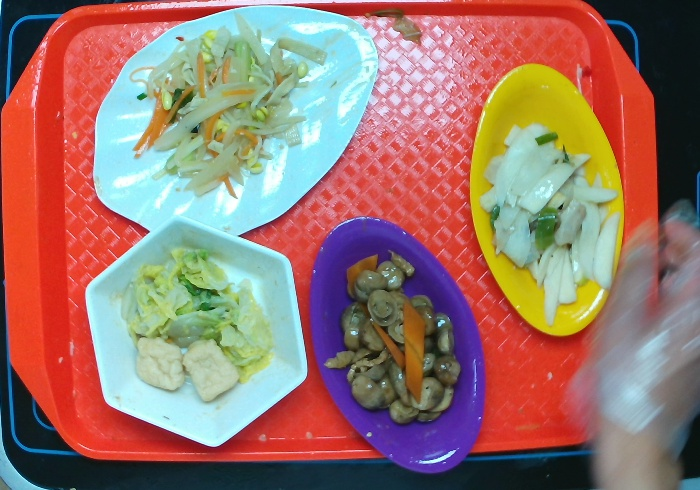RJxy-Bai_Ye_Pan: (90, 1, 377, 239)
RJxy-Fen_Hong_Tuo_Yuan: (306, 214, 489, 475)
RJxy-Huang_Se_Tuo_Yuan: (464, 57, 630, 346)
RJxy-Liu_Jiao_Wan: (80, 214, 312, 451)
